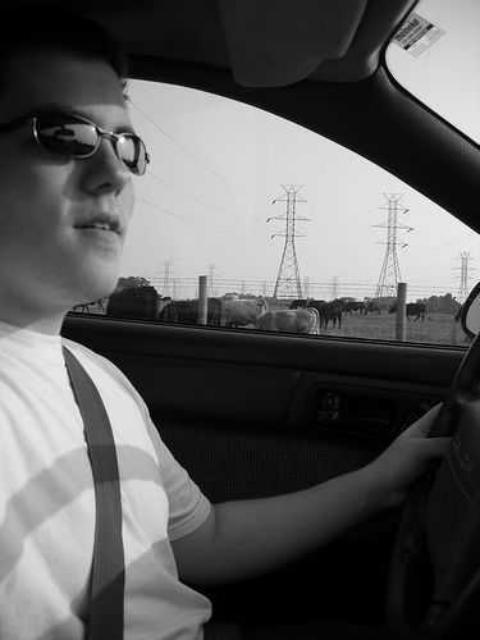Seatbelt: (46, 342, 134, 640)
